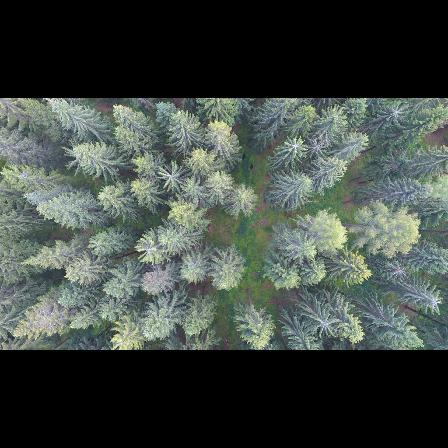Sick: (308, 311, 346, 342), (381, 100, 408, 131), (155, 163, 181, 193), (384, 257, 410, 283), (421, 288, 444, 313)
